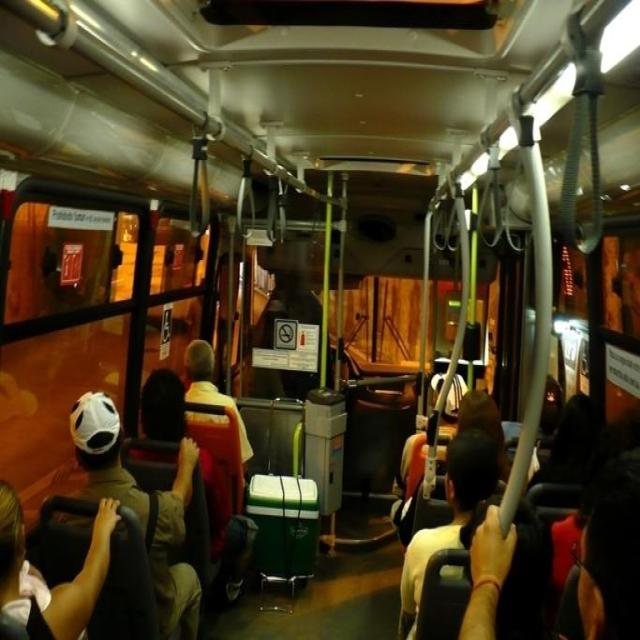Persona: (69, 392, 200, 639), (399, 430, 498, 639), (0, 481, 120, 639), (562, 424, 639, 639), (459, 505, 526, 639), (531, 394, 597, 482), (457, 390, 509, 479), (185, 339, 235, 408), (141, 369, 185, 441), (240, 418, 252, 461)
